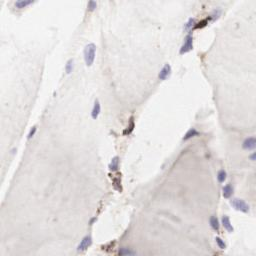nucleus: (83, 44, 96, 67), (157, 64, 174, 80), (182, 126, 199, 142), (231, 198, 250, 212), (180, 36, 193, 55), (91, 99, 102, 120), (222, 214, 234, 233), (107, 154, 119, 172), (78, 236, 92, 251), (27, 124, 39, 140), (223, 183, 236, 197), (210, 9, 224, 22), (216, 168, 228, 183), (209, 216, 219, 232), (65, 58, 74, 73), (216, 237, 227, 249), (184, 17, 193, 31), (16, 1, 37, 7), (244, 138, 256, 148), (119, 248, 134, 256), (88, 1, 96, 10), (10, 147, 17, 155), (250, 152, 256, 160), (91, 218, 97, 223)
positive_cell: (195, 8, 226, 30), (107, 154, 123, 192)
